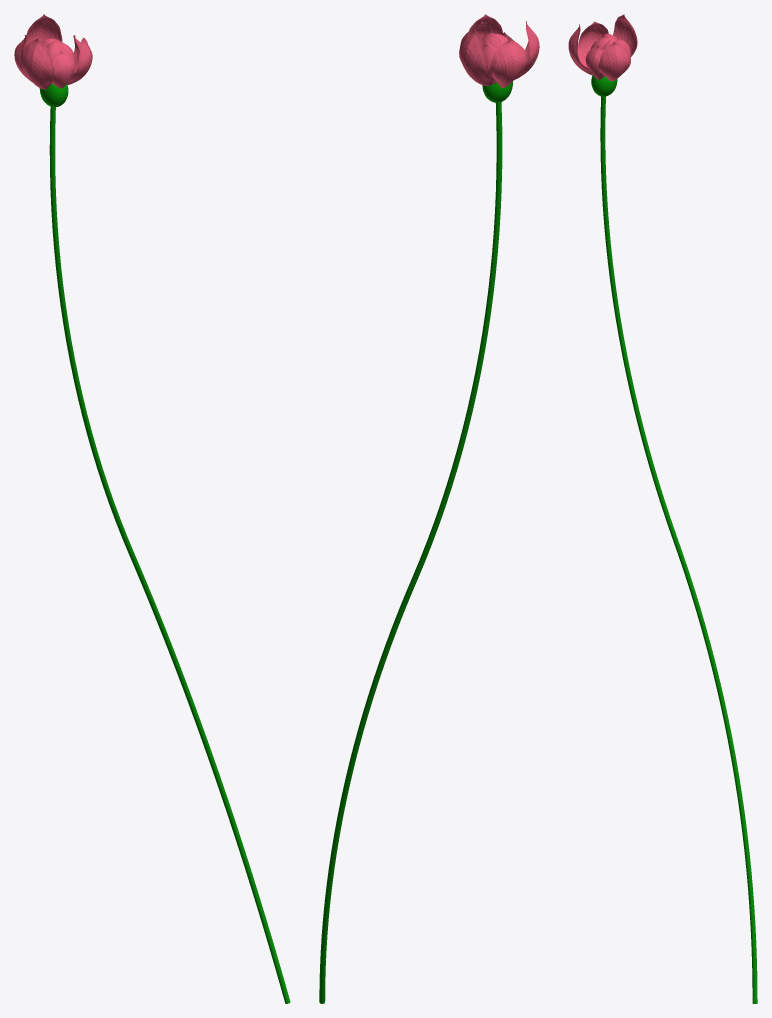
Rendered from Lotus026.fbx.
The picture shows the model from 3 angles, left to right: view 1: azimuth 30°, elevation 25°; view 2: azimuth 150°, elevation 25°; view 3: azimuth 330°, elevation 25°; orthographic projection. The views are drawn at different scales.
Parts seen in each view (by area): view 1: pCylinder5, nurbsToPoly11, nurbsToPoly10, nurbsToPoly8; view 2: pCylinder5, nurbsToPoly10, nurbsToPoly12; view 3: pCylinder5, nurbsToPoly24, nurbsToPoly10, nurbsToPoly12, nurbsToPoly11.
Boxes of the visible parts, x1,y1,x2,y2 form: pCylinder5: [49, 106, 290, 1003]; nurbsToPoly11: [20, 38, 54, 89]; nurbsToPoly10: [26, 14, 62, 45]; nurbsToPoly8: [52, 51, 75, 88]; pCylinder5: [319, 102, 502, 1003]; nurbsToPoly10: [459, 29, 493, 85]; nurbsToPoly12: [491, 40, 527, 87]; pCylinder5: [600, 96, 757, 1003]; nurbsToPoly24: [598, 42, 630, 81]; nurbsToPoly10: [613, 14, 637, 56]; nurbsToPoly12: [578, 21, 608, 55]; nurbsToPoly11: [568, 24, 592, 75].
Size of the model in its own units: 50.13 by 204 by 21.24.
